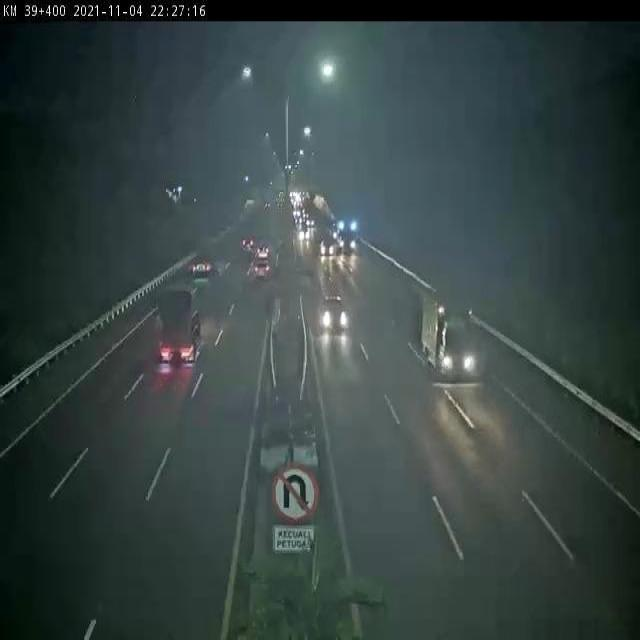Bus: (146, 252, 238, 390)
Car: (321, 292, 354, 343), (251, 242, 276, 279), (319, 238, 340, 264), (240, 228, 261, 252)
Truck: (409, 272, 487, 383)
